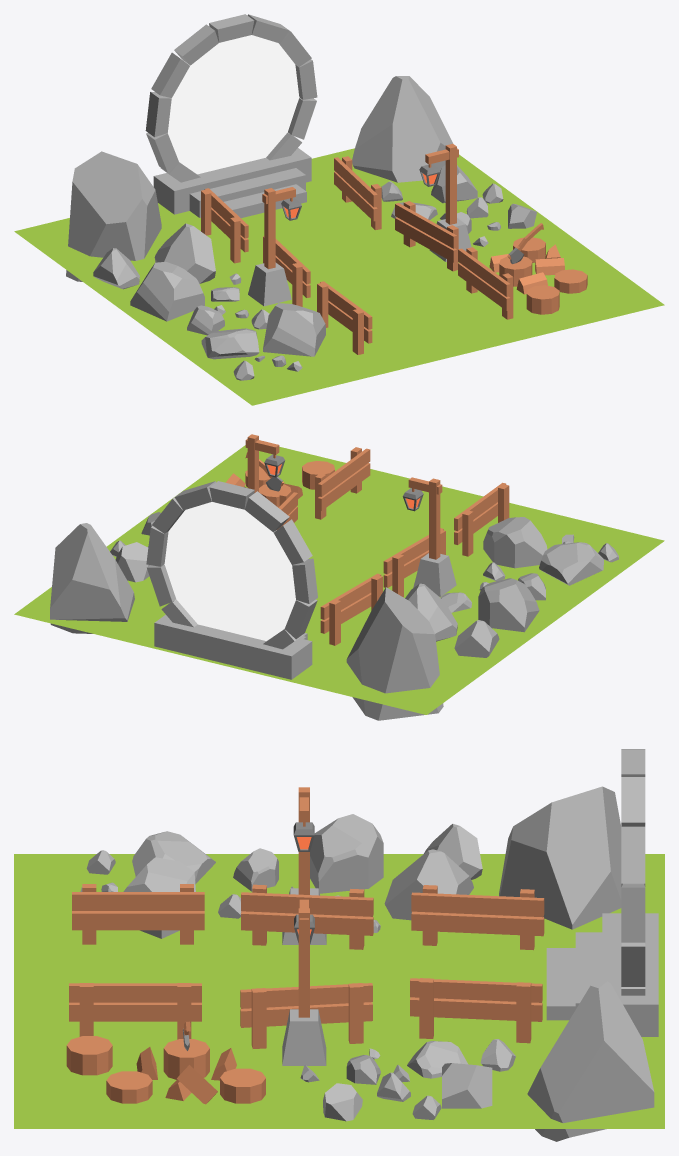
The model's file is portal.glb.
3 views of the same model, one above another, from view 1: azimuth 30°, elevation 25°; view 2: azimuth 150°, elevation 25°; view 3: azimuth 270°, elevation 25° (orthographic). The views are drawn at different scales.
Visible parts, largest first — view 1: Plane, Circle, Cube.023, Cube.022, Cube.051, Cube.030, Cube.034, Cube.004, Cube.032, Cube, Cube.019, Cube.002 (+24 smaller); view 2: Plane, Circle, Cube.023, Cube.022, Cube.051, Cube.030, Cube.034, Cube.002, Cube, Cube.033, Cube.019, Cube.005 (+20 smaller); view 3: Plane, Cube.023, Cube.022, Cube.002, Cube.001, Cube.019, Cube, Cube.005, Cube.004, Cube.030, Cube.051, Cube.032 (+25 smaller).
Part boxes in pixels (bbox=[...]): Plane: bbox=[14, 148, 664, 405]; Circle: bbox=[168, 35, 299, 174]; Cube.023: bbox=[66, 151, 161, 281]; Cube.022: bbox=[352, 76, 452, 182]; Cube.051: bbox=[153, 148, 311, 214]; Cube.030: bbox=[130, 261, 204, 321]; Cube.034: bbox=[263, 303, 325, 356]; Cube.004: bbox=[395, 201, 458, 271]; Cube.032: bbox=[154, 223, 215, 283]; Cube: bbox=[458, 247, 513, 319]; Cube.019: bbox=[317, 281, 372, 354]; Cube.002: bbox=[201, 188, 248, 263]; Plane: bbox=[14, 445, 664, 714]; Circle: bbox=[164, 502, 295, 641]; Cube.023: bbox=[346, 587, 443, 720]; Cube.022: bbox=[50, 523, 134, 633]; Cube.051: bbox=[154, 614, 312, 679]; Cube.030: bbox=[478, 578, 539, 632]; Cube.034: bbox=[483, 517, 547, 568]; Cube.002: bbox=[320, 573, 382, 645]; Cube: bbox=[315, 447, 370, 519]; Cube.033: bbox=[539, 542, 603, 585]; Cube.019: bbox=[454, 482, 509, 556]; Cube.005: bbox=[383, 528, 445, 596]; Plane: bbox=[14, 854, 664, 1128]; Cube.023: bbox=[499, 786, 621, 929]; Cube.022: bbox=[527, 981, 654, 1141]; Cube.002: bbox=[411, 885, 544, 950]; Cube.001: bbox=[410, 978, 542, 1043]; Cube.019: bbox=[72, 884, 204, 944]; Cube: bbox=[69, 983, 201, 1039]; Cube.005: bbox=[241, 884, 373, 949]; Cube.004: bbox=[240, 983, 372, 1048]; Cube.030: bbox=[310, 814, 383, 893]; Cube.051: bbox=[602, 913, 658, 1036]; Cube.032: bbox=[384, 849, 473, 920].
Size of the model in its own units: 4 by 1.8 by 4.
